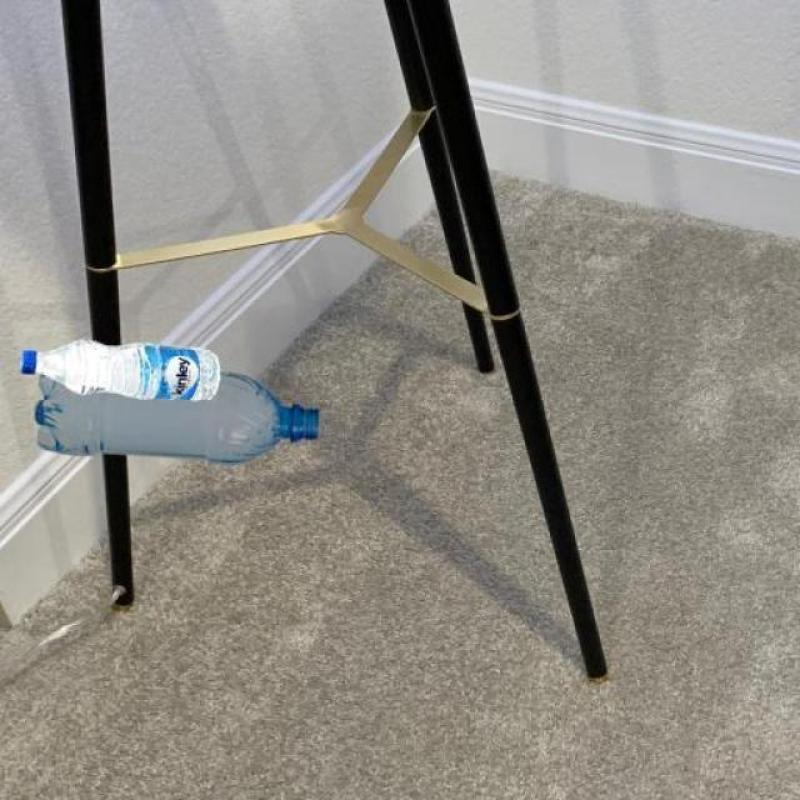botella: (36, 376, 320, 462), (23, 336, 221, 399)
